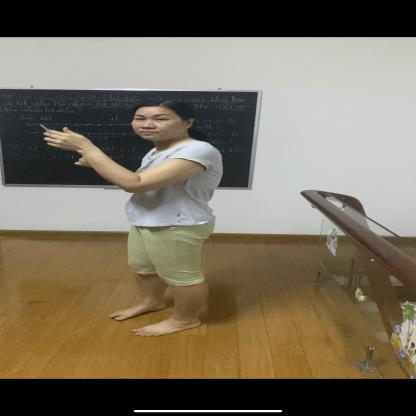cigarette: (38, 124, 52, 134)
person: (44, 94, 224, 337)
